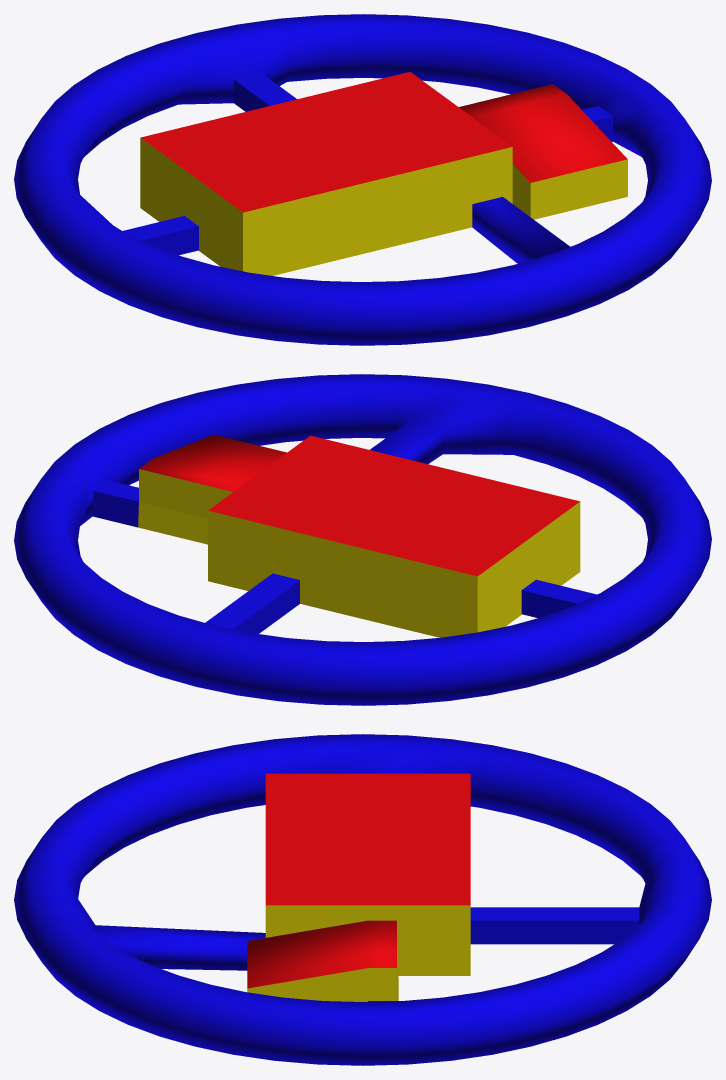
Rendered from Floor 4.fbx.
3 renders of one model, top to bottom at view 1: azimuth 30°, elevation 25°; view 2: azimuth 150°, elevation 25°; view 3: azimuth 270°, elevation 25°, orthographic.
Parts seen in each view (by area): view 1: Floor4Mesh; view 2: Floor4Mesh; view 3: Floor4Mesh.
Boxes of the visible parts, x1,y1,x2,y2 form: Floor4Mesh: (14,14,711,345); Floor4Mesh: (14,374,711,705); Floor4Mesh: (14,734,711,1065).
Size of the model in its own units: 7170 by 801 by 7170.
